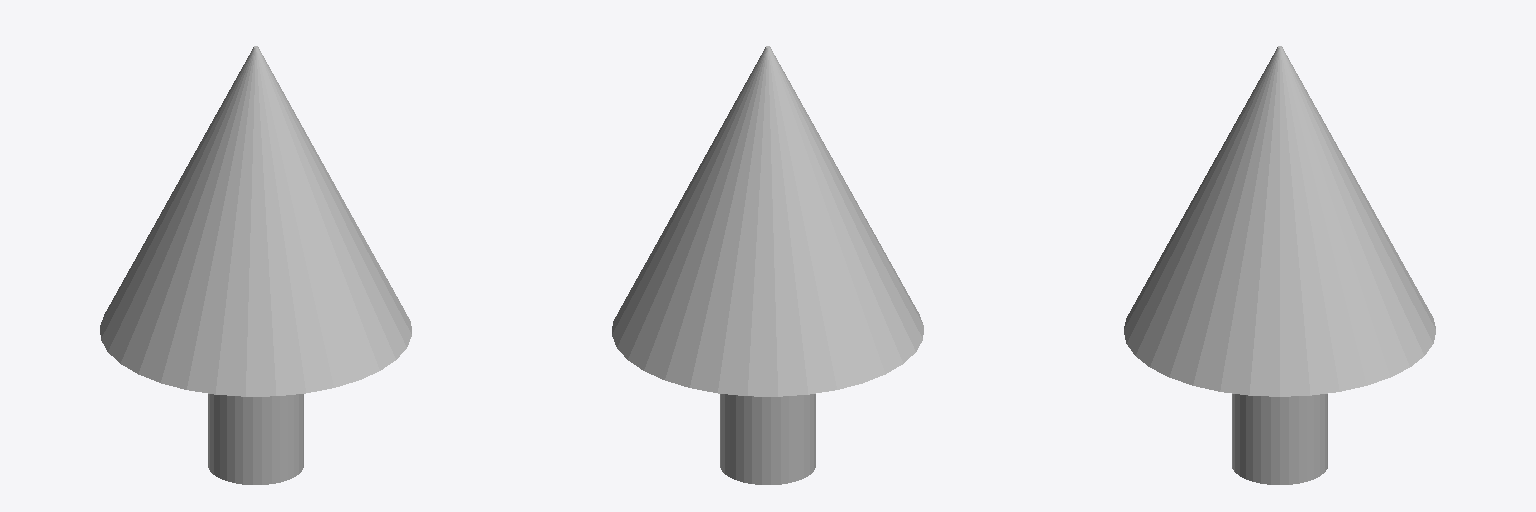
Rendered from tree.obj.
The picture shows the model from 3 angles: view 1: azimuth 30°, elevation 25°; view 2: azimuth 150°, elevation 25°; view 3: azimuth 270°, elevation 25°; orthographic projection.
Visible parts, largest first — view 1: Cone, Cylinder; view 2: Cone, Cylinder; view 3: Cone, Cylinder.
Boxes of the visible parts, box(x1,y1,x2,y2) form: Cone: box(100, 46, 411, 396); Cylinder: box(208, 394, 303, 484); Cone: box(612, 46, 923, 396); Cylinder: box(720, 394, 815, 484); Cone: box(1124, 46, 1435, 396); Cylinder: box(1232, 394, 1327, 484).
Bounding box in the file's own units: 2 × 2.95 × 2.